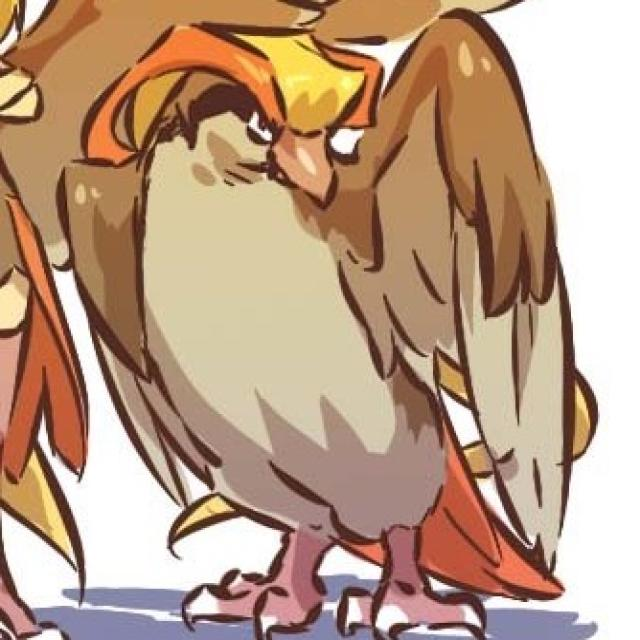Pidgeot: (78, 21, 561, 640)
